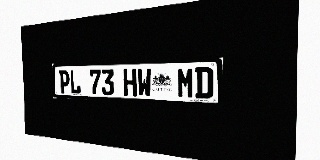3: (101, 69, 114, 95)
7: (89, 69, 101, 95)
D: (195, 67, 213, 99)
H: (123, 68, 137, 96)
L: (69, 70, 81, 94)
M: (177, 67, 194, 98)
P: (59, 70, 70, 94)
W: (137, 68, 152, 97)
